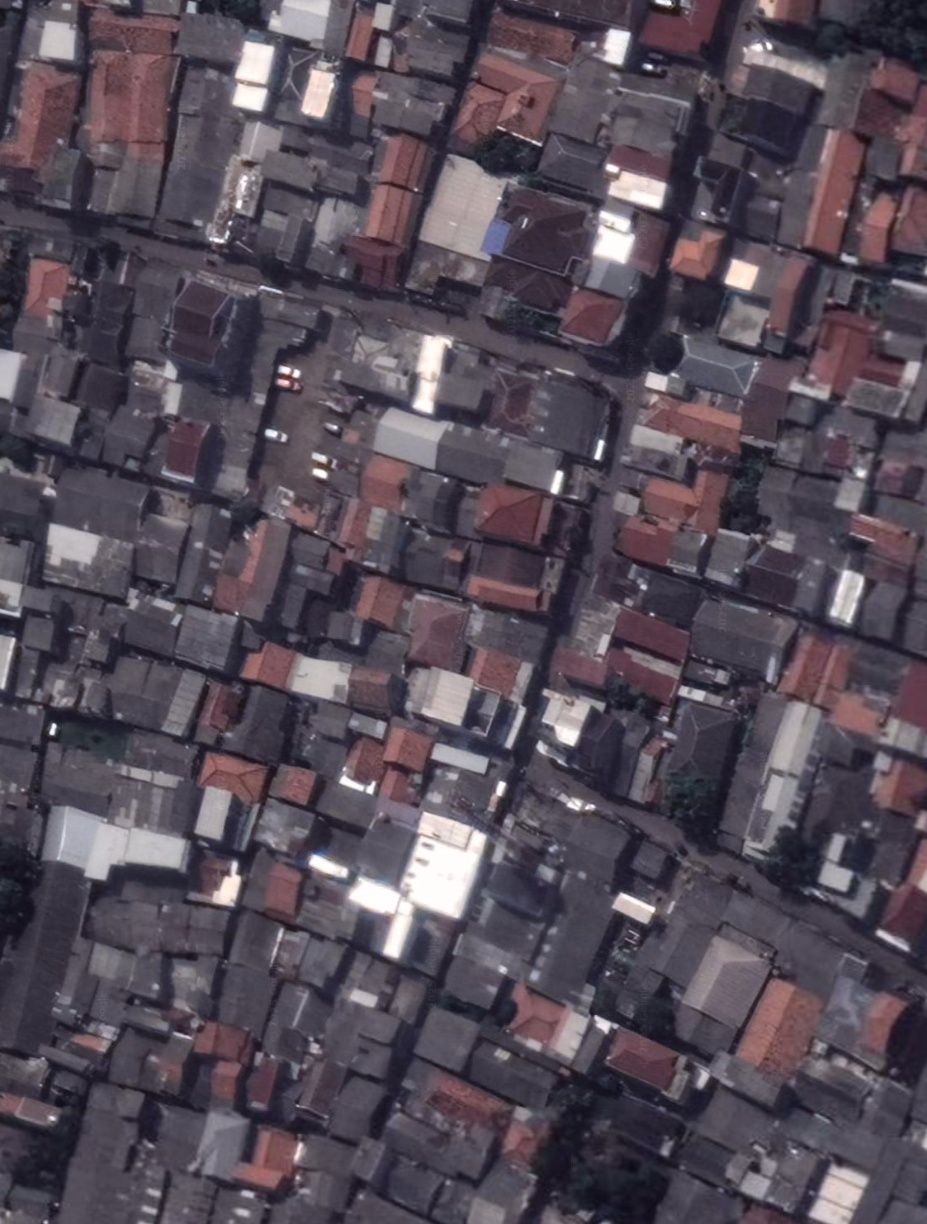building: (296, 788, 448, 961), (707, 687, 838, 870), (148, 61, 254, 247), (0, 856, 96, 1060), (55, 1077, 180, 1224), (711, 970, 836, 1113), (221, 287, 328, 447), (737, 697, 833, 868), (706, 887, 851, 1000), (68, 938, 219, 1038), (520, 870, 622, 1009), (666, 932, 774, 1061), (777, 632, 902, 742), (440, 897, 550, 1020), (204, 510, 315, 631), (490, 976, 612, 1080), (813, 41, 927, 149), (815, 952, 915, 1075), (390, 1055, 511, 1154), (394, 807, 492, 922), (797, 127, 881, 261), (401, 663, 530, 750), (683, 589, 800, 684), (431, 422, 567, 502), (417, 151, 515, 262), (457, 44, 565, 143), (490, 184, 602, 279), (810, 304, 910, 409), (601, 1025, 717, 1115), (105, 722, 207, 824), (154, 273, 253, 378), (835, 1064, 925, 1176), (323, 305, 428, 394), (148, 1099, 222, 1224), (44, 468, 154, 547), (577, 197, 659, 302), (106, 654, 207, 738), (615, 502, 718, 584), (378, 1111, 496, 1182), (681, 1122, 783, 1203), (10, 57, 81, 173), (261, 976, 345, 1074), (693, 1085, 792, 1168), (299, 774, 377, 878), (272, 121, 377, 198), (38, 583, 131, 668), (36, 523, 141, 598), (86, 817, 191, 891), (461, 1037, 561, 1114), (193, 393, 263, 503), (635, 386, 748, 454), (794, 1043, 885, 1127), (396, 462, 489, 544), (731, 350, 805, 449), (528, 376, 614, 461), (465, 539, 562, 614), (221, 678, 301, 768), (201, 153, 272, 254), (608, 73, 693, 157), (801, 402, 886, 486), (637, 457, 725, 538), (848, 1131, 927, 1221), (403, 589, 486, 674), (325, 996, 407, 1080), (478, 855, 568, 931), (756, 462, 847, 536), (769, 1086, 854, 1165), (644, 899, 719, 988), (547, 51, 622, 140), (641, 0, 734, 71), (249, 180, 323, 268), (285, 1131, 364, 1213), (601, 1089, 688, 1163), (616, 926, 682, 1023), (364, 399, 451, 472), (420, 758, 507, 831), (560, 806, 640, 885), (36, 740, 120, 815), (671, 332, 761, 402), (370, 719, 441, 807), (507, 779, 595, 850), (205, 952, 281, 1034), (481, 253, 575, 319), (89, 394, 163, 477), (475, 478, 558, 551), (403, 239, 490, 308), (177, 498, 233, 603), (237, 848, 314, 924), (276, 43, 343, 130), (599, 640, 686, 706), (855, 578, 927, 657), (670, 700, 741, 780), (44, 1006, 120, 1080), (555, 281, 630, 355), (86, 43, 138, 149), (842, 504, 925, 570), (123, 50, 180, 146), (537, 130, 616, 199), (716, 93, 805, 154), (463, 1155, 540, 1224), (370, 74, 453, 138), (759, 1135, 826, 1214), (188, 781, 260, 854), (856, 747, 927, 821), (733, 57, 820, 117), (109, 136, 169, 223), (466, 601, 550, 663), (173, 5, 253, 70), (651, 1170, 747, 1224), (398, 522, 471, 593), (120, 587, 194, 657), (485, 12, 579, 67), (323, 1070, 391, 1146), (236, 1124, 307, 1196), (0, 739, 44, 855), (304, 193, 364, 277), (569, 709, 632, 789), (174, 604, 245, 674), (35, 797, 99, 874), (436, 343, 500, 420), (879, 658, 927, 760), (760, 250, 815, 339), (129, 508, 194, 583), (363, 888, 426, 964), (397, 907, 462, 980), (260, 482, 344, 538), (99, 1021, 163, 1094), (393, 19, 472, 78), (719, 234, 787, 302), (251, 797, 323, 861), (685, 155, 748, 228), (614, 605, 694, 662), (544, 637, 617, 699), (739, 542, 809, 606), (267, 0, 353, 52), (50, 660, 122, 722), (0, 534, 55, 615), (361, 174, 422, 247), (335, 231, 408, 292), (463, 642, 540, 699), (871, 878, 927, 956), (87, 4, 176, 53), (413, 1006, 478, 1073), (357, 509, 421, 577), (357, 808, 415, 883), (229, 900, 291, 970), (225, 38, 282, 114), (565, 591, 624, 663), (197, 747, 274, 802), (354, 447, 418, 513), (285, 646, 356, 705), (772, 167, 823, 249), (485, 362, 542, 435), (0, 466, 53, 544), (404, 332, 453, 416), (380, 1155, 446, 1217), (195, 1108, 250, 1182), (533, 688, 597, 751), (671, 868, 735, 931), (350, 568, 412, 633), (85, 280, 131, 367), (195, 1014, 263, 1072), (852, 188, 901, 267), (187, 850, 249, 912), (378, 128, 438, 192), (22, 391, 86, 451), (810, 1156, 866, 1224), (20, 253, 75, 322), (668, 221, 729, 283), (161, 413, 211, 488), (124, 256, 179, 323), (125, 359, 186, 419), (341, 951, 403, 1010), (330, 495, 388, 558), (297, 1053, 350, 1121), (495, 1105, 552, 1168), (37, 145, 89, 213), (622, 210, 674, 278), (715, 292, 774, 351), (236, 635, 299, 690), (455, 82, 510, 145), (581, 250, 644, 305), (195, 679, 245, 748), (342, 1188, 436, 1224), (502, 0, 631, 26), (74, 359, 134, 414), (40, 0, 91, 64), (842, 374, 910, 422), (825, 866, 883, 922), (32, 344, 86, 403), (155, 1028, 198, 1102), (605, 166, 671, 214), (494, 810, 553, 863), (869, 450, 926, 504), (178, 897, 231, 955), (292, 729, 351, 781), (343, 664, 402, 714), (260, 146, 320, 195), (0, 1088, 65, 1133), (13, 644, 61, 704), (173, 379, 232, 427), (235, 111, 287, 165), (8, 311, 63, 362), (386, 965, 434, 1023), (881, 279, 926, 340), (270, 212, 318, 269), (345, 874, 404, 920), (90, 892, 138, 948), (301, 934, 347, 992), (362, 626, 414, 677), (343, 736, 392, 790), (0, 693, 45, 751), (0, 1049, 51, 1099), (271, 923, 314, 982), (271, 760, 323, 808), (339, 398, 384, 452), (348, 1135, 393, 1188), (429, 740, 493, 777), (739, 190, 784, 242), (628, 838, 676, 886), (342, 8, 383, 64), (7, 1183, 61, 1224), (102, 246, 148, 294), (392, 0, 476, 26), (305, 698, 354, 742), (627, 423, 685, 459), (590, 221, 637, 265), (210, 1188, 267, 1224), (771, 422, 813, 470), (287, 529, 333, 571), (271, 1194, 337, 1223), (262, 185, 318, 219), (610, 889, 659, 927), (323, 606, 368, 647), (783, 391, 827, 431), (814, 859, 859, 898), (289, 560, 336, 596), (325, 455, 364, 498), (276, 582, 310, 631), (212, 1061, 245, 1111), (756, 0, 819, 26), (249, 1053, 276, 1113), (347, 70, 380, 119), (833, 474, 871, 515), (324, 434, 368, 469), (132, 902, 163, 948), (346, 710, 389, 741), (821, 829, 852, 865), (23, 614, 57, 646), (2, 633, 20, 690), (321, 544, 351, 577), (372, 35, 396, 68), (371, 1, 396, 31)
tree: (755, 827, 827, 898), (660, 770, 728, 843), (574, 1169, 658, 1221), (476, 129, 542, 183), (723, 459, 771, 532), (667, 273, 726, 332), (0, 846, 28, 948), (630, 990, 681, 1044), (549, 1078, 601, 1130), (538, 1131, 586, 1186), (644, 327, 693, 379), (503, 299, 551, 339), (1, 264, 22, 347), (438, 991, 485, 1025), (590, 985, 621, 1019), (604, 678, 635, 711), (564, 527, 592, 556), (494, 998, 519, 1028)
